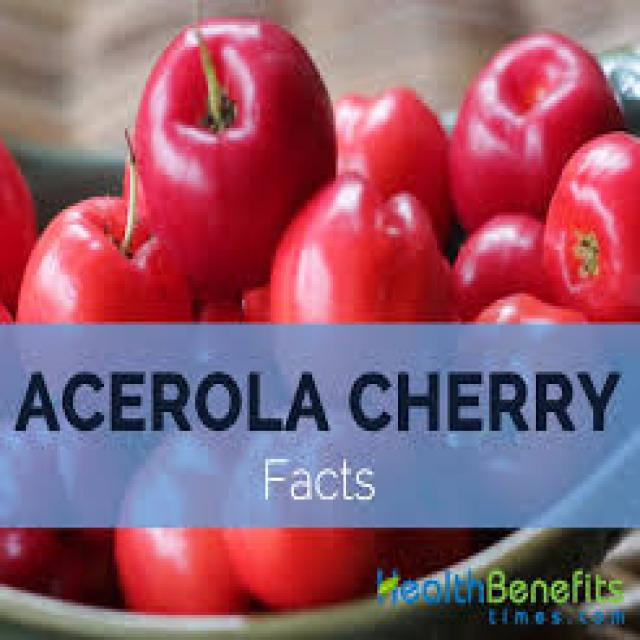Organik: (146, 19, 311, 272), (454, 39, 617, 226), (115, 504, 366, 611), (292, 182, 474, 328), (34, 190, 197, 317), (326, 72, 454, 227), (542, 132, 640, 308)
